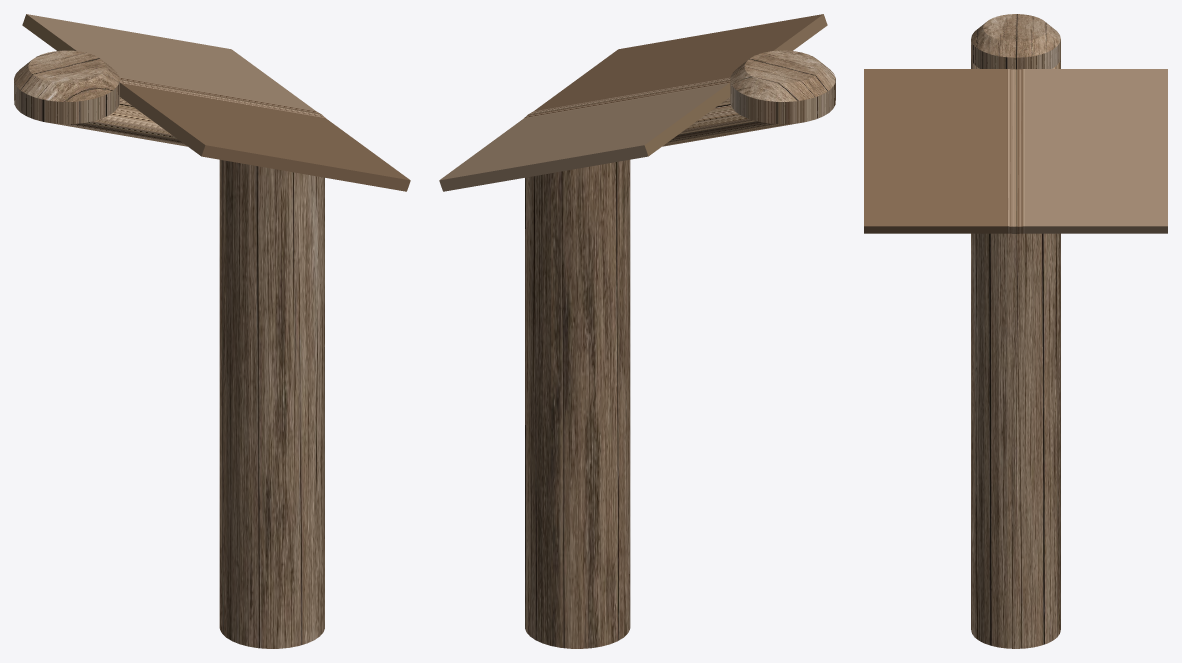
File: wooden_sign.fbx
3 views of the same model, side by side, from view 1: azimuth 30°, elevation 25°; view 2: azimuth 150°, elevation 25°; view 3: azimuth 270°, elevation 25° (orthographic). The views are drawn at different scales.
Visible parts, largest first — view 1: Cylinder; view 2: Cylinder; view 3: Cylinder.
Boxes of the visible parts, x1,y1,x2,y2 form: Cylinder: [14, 14, 410, 648]; Cylinder: [439, 14, 835, 648]; Cylinder: [864, 14, 1167, 648].
Size of the model in its own units: 206 by 399 by 212.
1 material, 1 textured.
